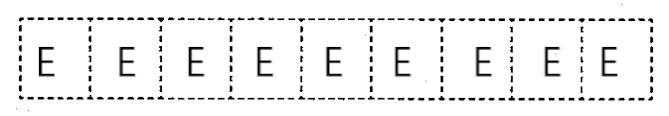E: (179, 41, 213, 82), (318, 41, 351, 83), (387, 41, 420, 83), (112, 40, 144, 83), (249, 40, 280, 84), (594, 40, 626, 82), (468, 41, 499, 82), (35, 40, 64, 82), (538, 39, 567, 81)
